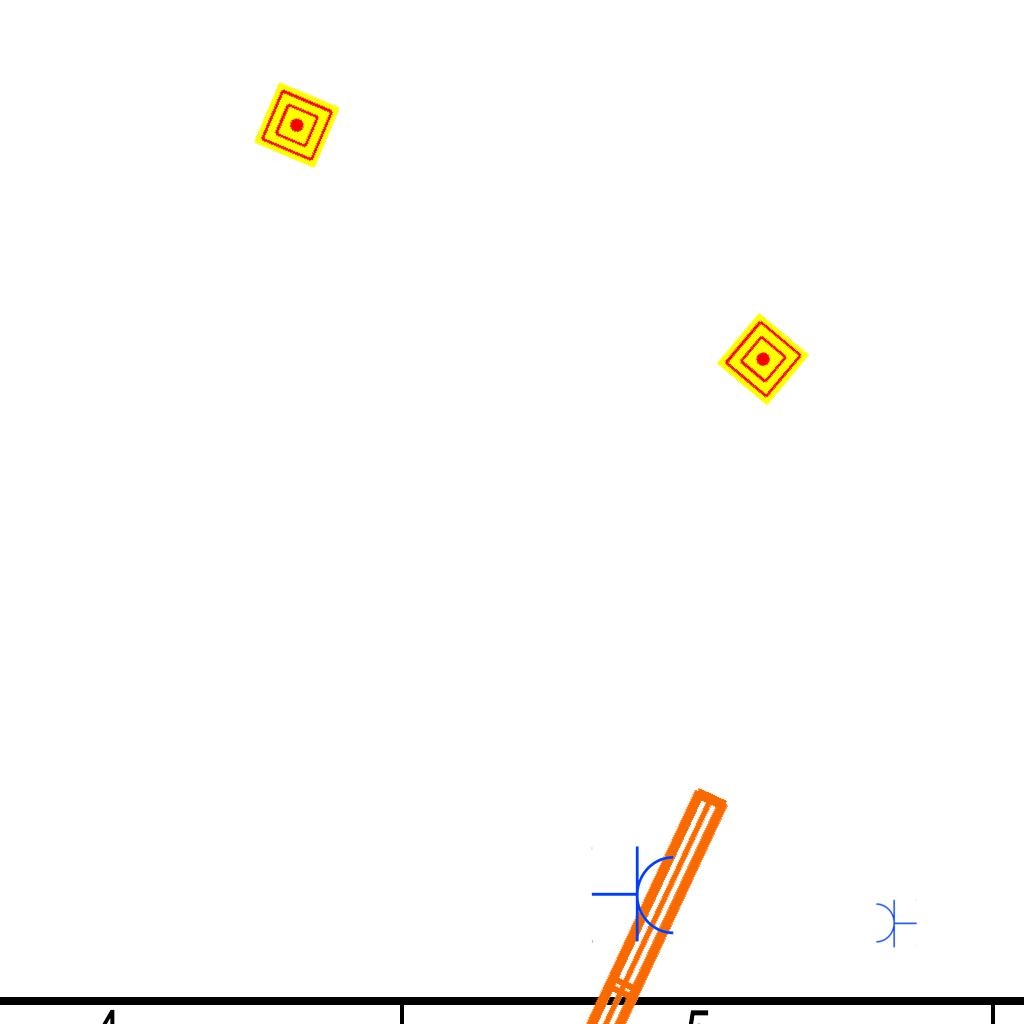Ambulanz_Pendelleuchte_LED: (362, 771, 792, 1024)
NAM-Nichtautomatischer_Melder: (716, 312, 810, 406), (253, 81, 341, 169)
Schukosteckdose_einfach: (591, 845, 678, 945), (874, 898, 917, 948)
